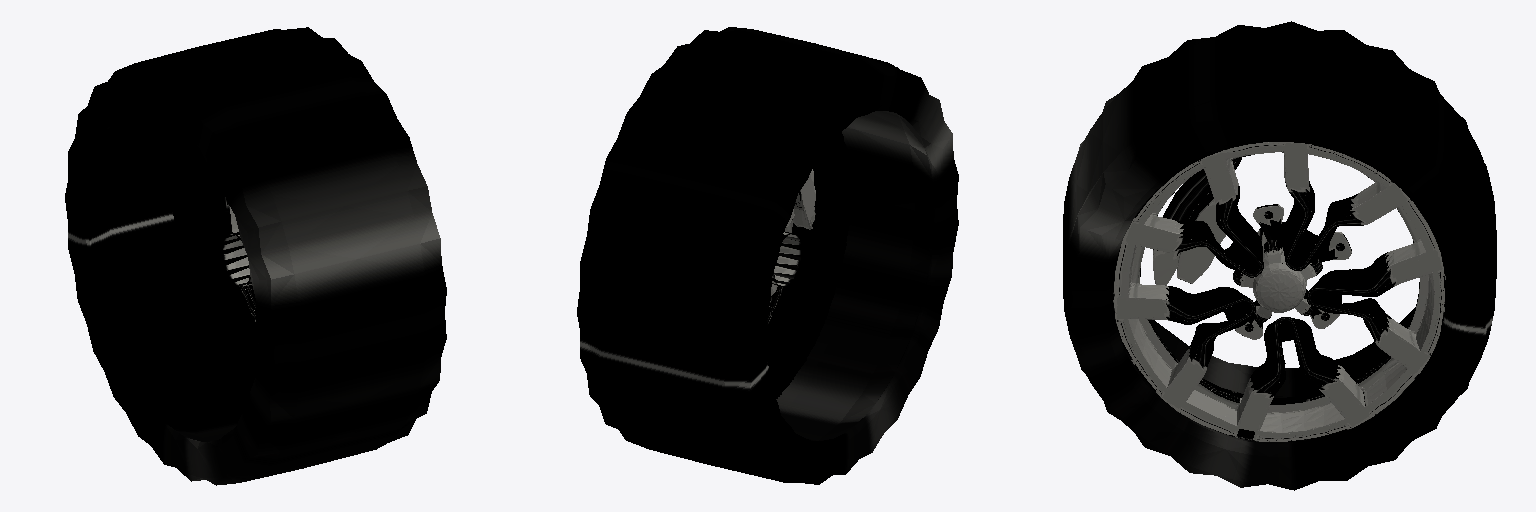
The picture shows the model from 3 angles: view 1: azimuth 30°, elevation 25°; view 2: azimuth 150°, elevation 25°; view 3: azimuth 270°, elevation 25°; orthographic projection.
Parts seen in each view (by area): view 1: Llanta_IA; view 2: Llanta_IA; view 3: Llanta_IA.
Boxes of the visible parts, x1,y1,x2,y2 form: Llanta_IA: [65, 27, 446, 485]; Llanta_IA: [577, 27, 958, 484]; Llanta_IA: [1063, 21, 1496, 490].
Size of the model in its own units: 9.63 by 21.08 by 21.07.
Materials: 1 (1 with a texture image).